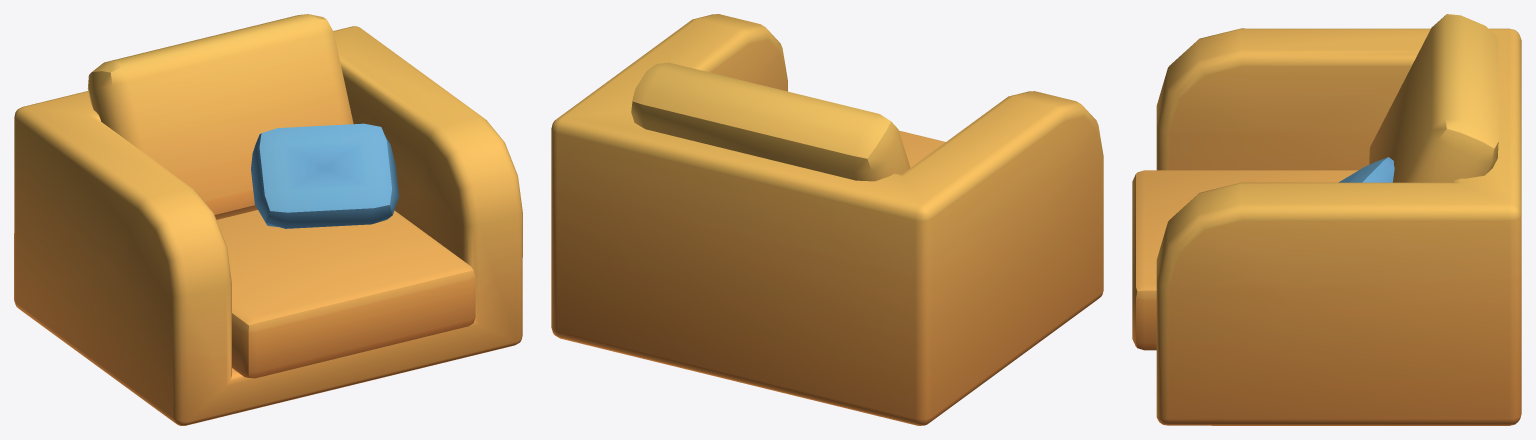
The model's file is reading-chair-v1.glb.
The picture shows the model from 3 angles, left to right: view 1: azimuth 30°, elevation 25°; view 2: azimuth 150°, elevation 25°; view 3: azimuth 270°, elevation 25°; orthographic projection. The views are drawn at different scales.
Visible parts, largest first — view 1: armchair_pillows; view 2: armchair_pillows; view 3: armchair_pillows.
Boxes of the visible parts, left/top/right/bottom form: armchair_pillows: left=14, top=14, right=522, bottom=425; armchair_pillows: left=551, top=14, right=1103, bottom=425; armchair_pillows: left=1132, top=14, right=1521, bottom=425.
Size of the model in its own units: 1.54 by 1.05 by 1.37.
Materials: 1 (1 with a texture image).
